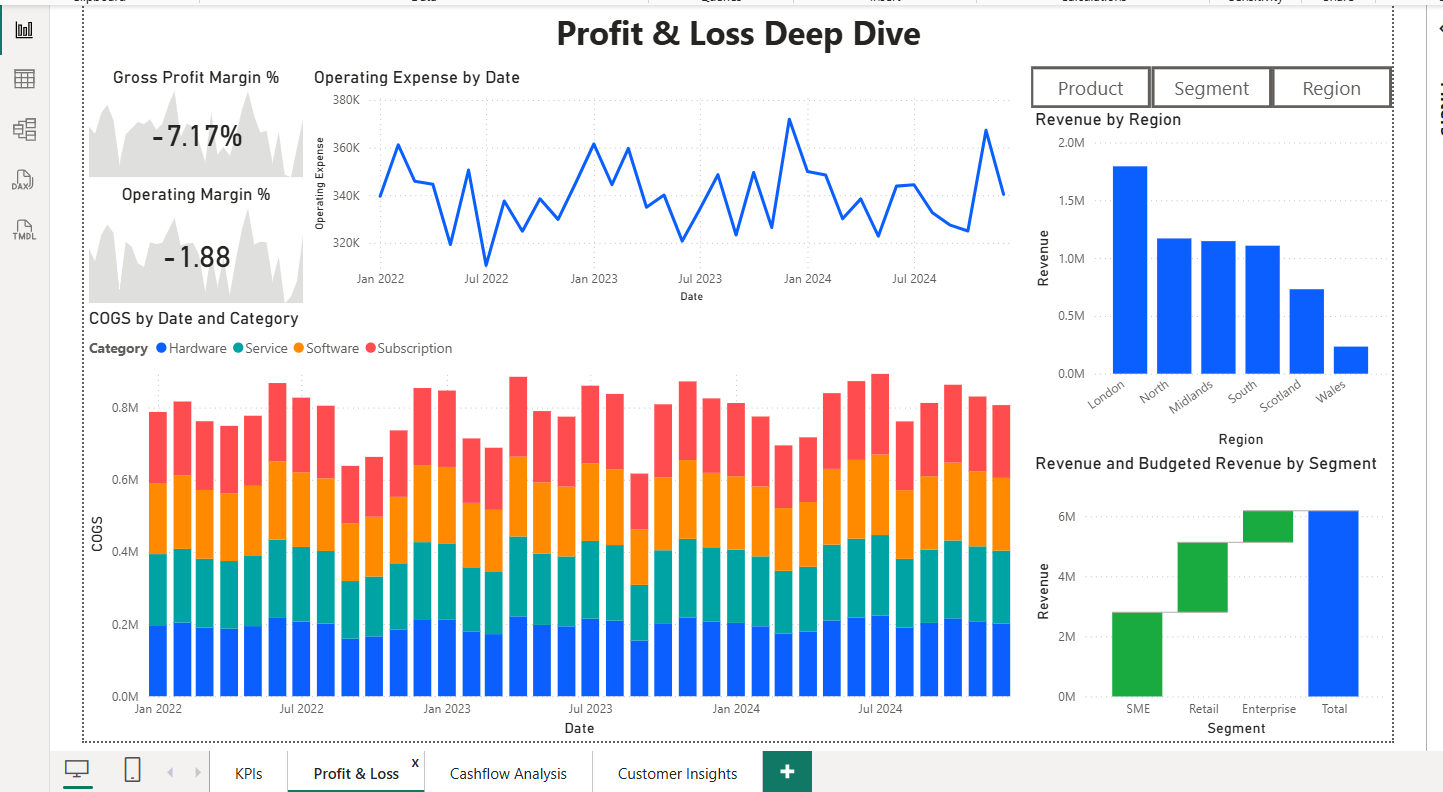

The page's visual inventory and layout, read from the dashboard file:
{"tool":"powerbi","page":{"name":"Profit & Loss","canvas":[1280,720],"ordinal":1},"visuals":[{"type":"textbox","box":[0,0,1280.3,60.4],"z":0},{"type":"kpi","title":"Gross Profit Margin %","fields":{"Indicator":["Revenue.Gross Margin %"],"TrendLine":["Date.Date"]},"box":[0,60.4,219.6,113.9],"z":1000},{"type":"kpi","title":"Operating Margin % ","fields":{"Indicator":["Revenue.Operating Margin %"],"TrendLine":["Date.Date"]},"box":[0,174.3,219.6,122.1],"z":2000},{"type":"columnChart","title":"Revenue by Region","fields":{"Y":["Sum(Revenue.RevenueAmount)"],"Category":["Customer.Region"]},"box":[926.2,101.5,354,336.2],"z":4000},{"type":"actionButton","title":"Product","box":[926.2,60.4,118,41.2],"z":6000},{"type":"actionButton","title":"Region","box":[1162.3,60.4,118,41.2],"z":7000},{"type":"actionButton","title":"Segment","box":[1044.3,60.4,118,41.2],"z":8000},{"type":"columnChart","title":"COGS by Date and Category","fields":{"Category":["Date.Date"],"Y":["Revenue.COGS"],"Series":["Product.Category"]},"box":[0,296.4,926.2,424],"z":9000},{"type":"lineChart","fields":{"Y":["Expenses.Operating Expense"],"Category":["Date.Date"]},"box":[219.6,60.4,706.7,236],"z":10000},{"type":"waterfallChart","fields":{"Y":["Sum(Revenue.RevenueAmount)"],"Category":["Customer.Segment"]},"box":[926.2,437.7,354,282.7],"z":11000}]}

Visuals, with their boxes on the page's 1280x720 design canvas (x1, y1, x2, y2). These are canvas units, not pixel positions in the 1443x792 screenshot, which may show the page scaled, cropped or inside an application window:
textbox: rect(0, 0, 1280, 60)
"Gross Profit Margin %" kpi: rect(0, 60, 220, 174)
"Operating Margin % " kpi: rect(0, 174, 220, 296)
"Revenue by Region" columnChart: rect(926, 102, 1280, 438)
"Product" actionButton: rect(926, 60, 1044, 102)
"Region" actionButton: rect(1162, 60, 1280, 102)
"Segment" actionButton: rect(1044, 60, 1162, 102)
"COGS by Date and Category" columnChart: rect(0, 296, 926, 720)
lineChart - Expenses.Operating Expense x Date.Date: rect(220, 60, 926, 296)
waterfallChart - Sum(Revenue.RevenueAmount) x Customer.Segment: rect(926, 438, 1280, 720)
